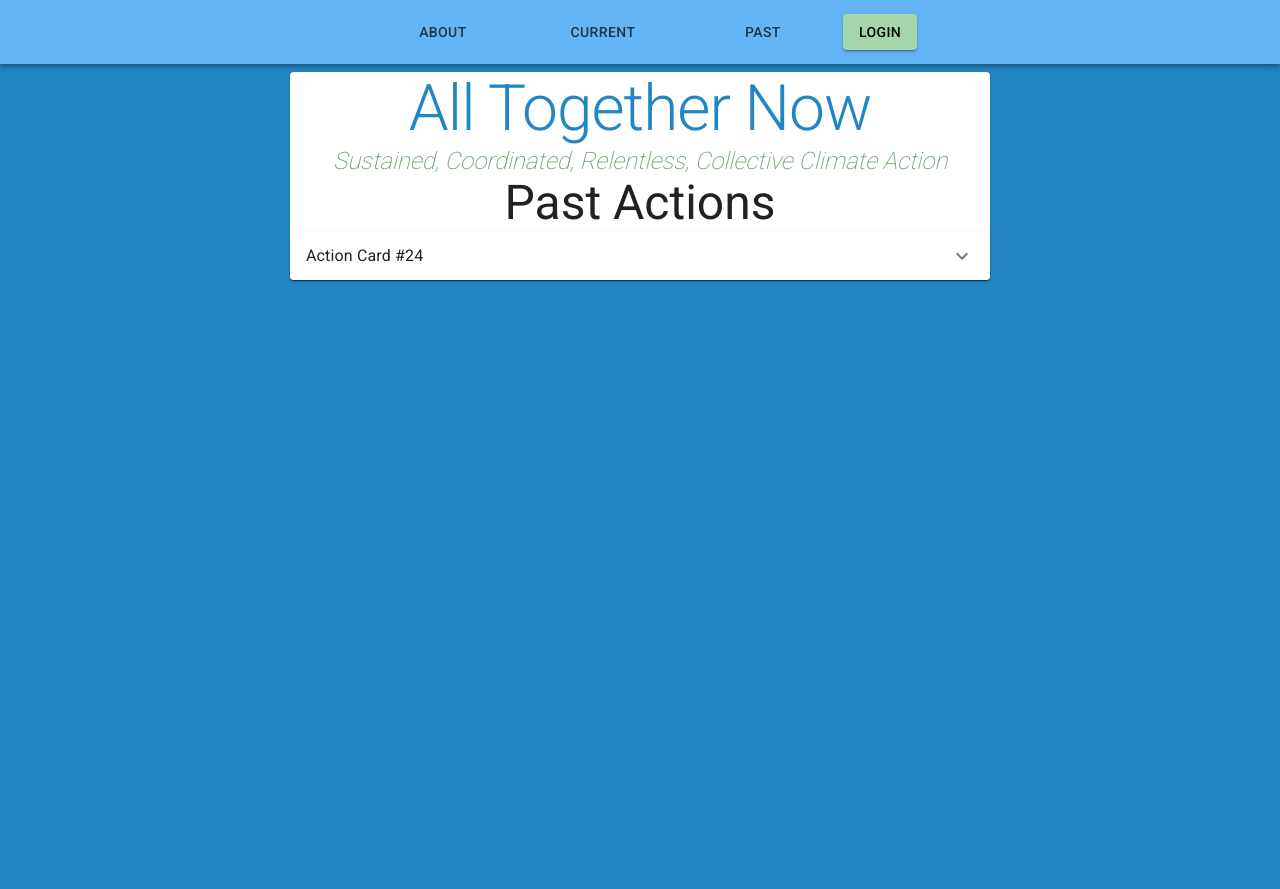
Test: past actions › does not show UNDEFINED for geography
Click the element showing "Action Card #24" at {"x": 640, "y": 256}, box [290,232,990,280]
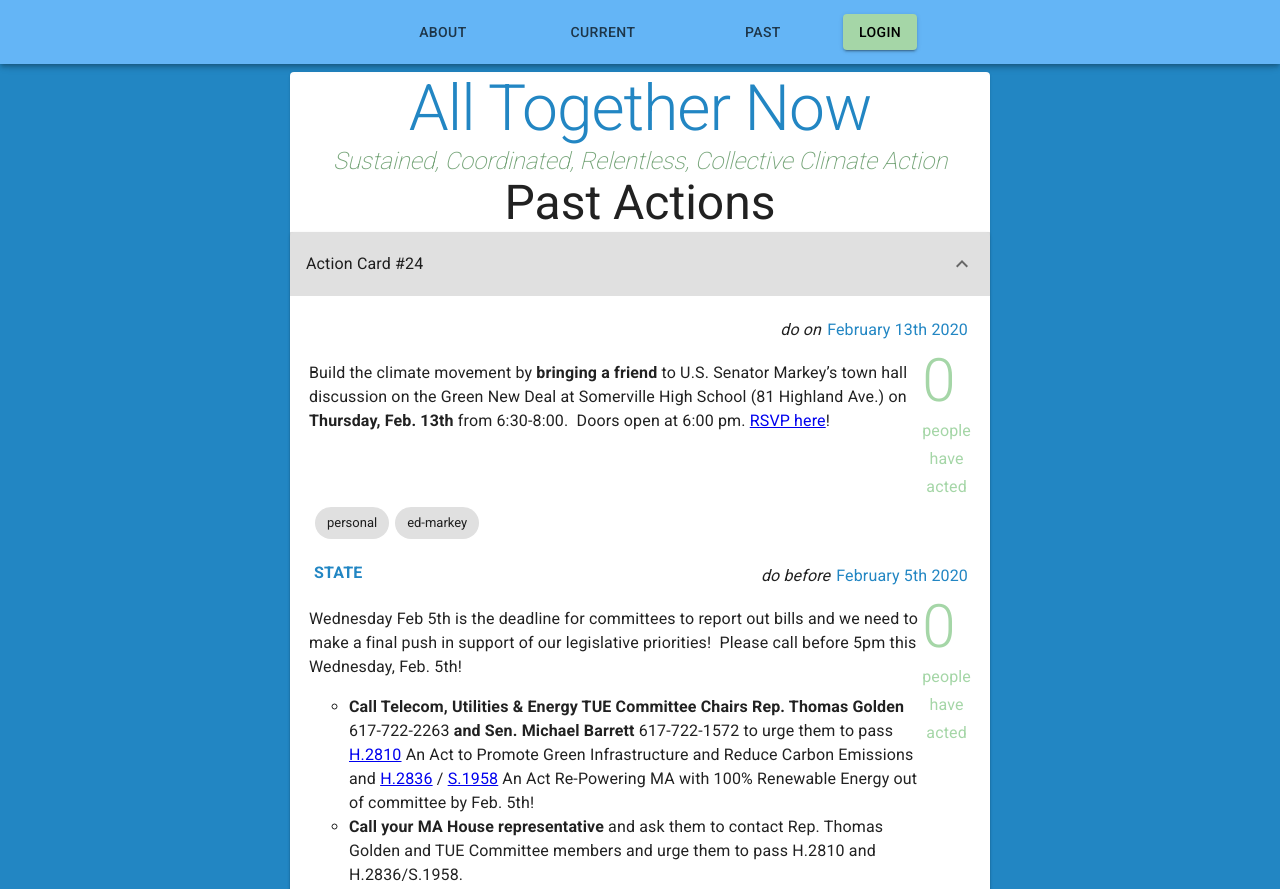
Check: the text "Build the climate movement by" is shown, box [309,362,536,382]
Check: the text "STATE" is shown, box [314,562,362,582]
